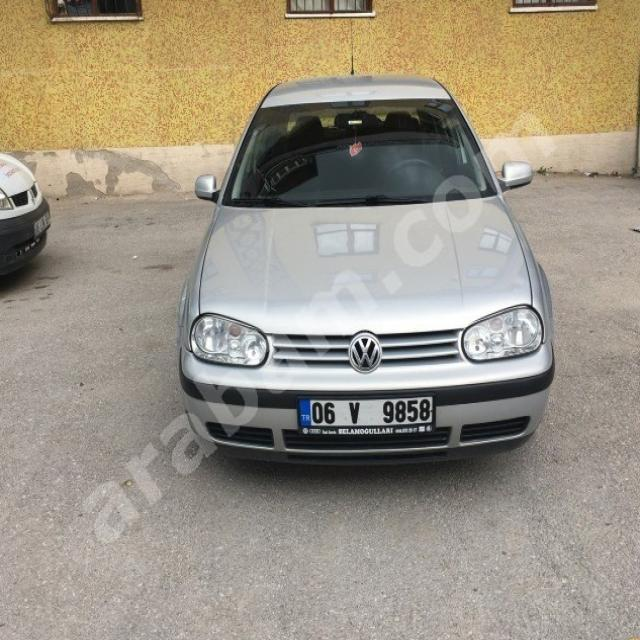license_plate: (298, 396, 435, 428)
